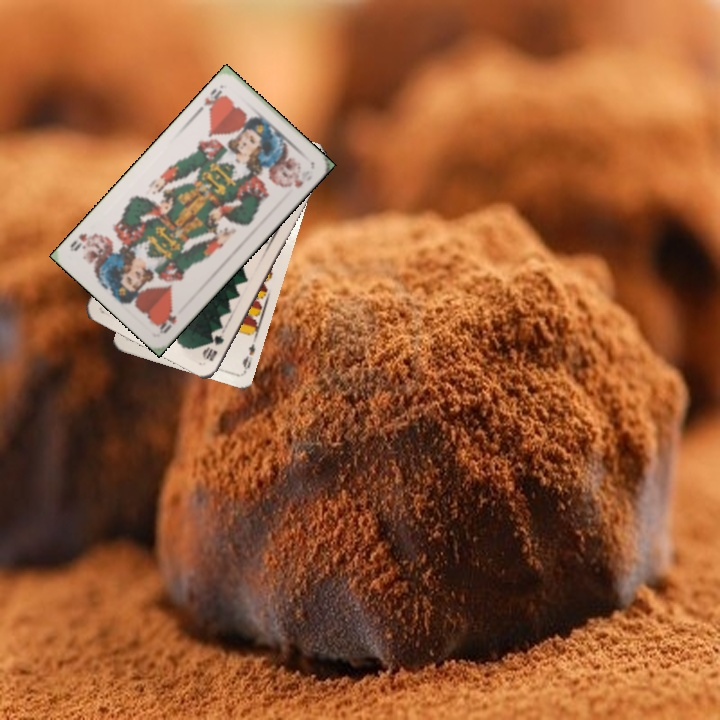E9: (238, 339, 258, 374)
G10: (199, 331, 227, 364)
HO: (199, 84, 228, 116), (154, 306, 179, 336)
